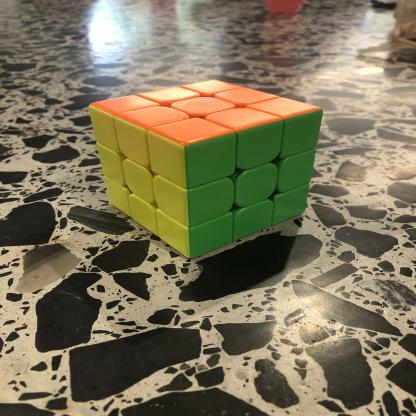SolvedCube: (79, 65, 328, 264)
